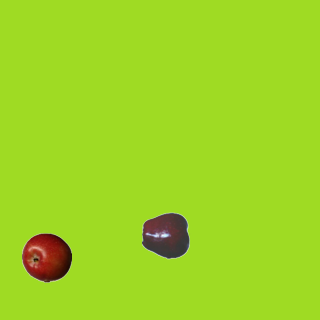Apple Braeburn: (21, 232, 71, 282)
Apple Red Delicious: (141, 210, 191, 260)
